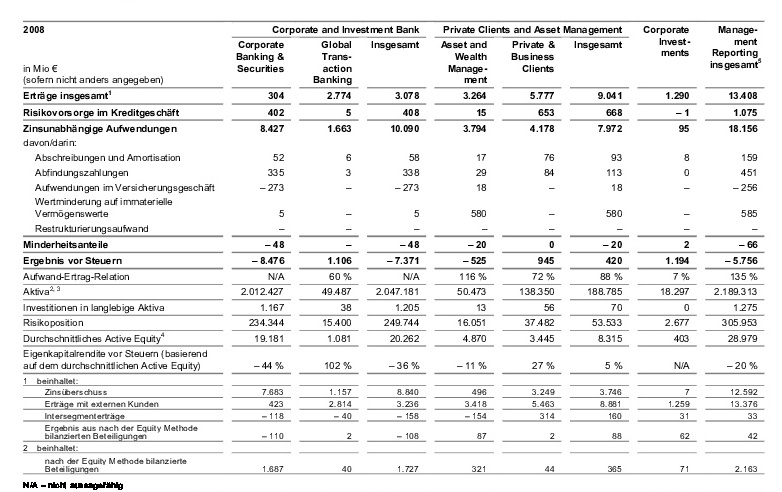table: (0, 0, 782, 492)
